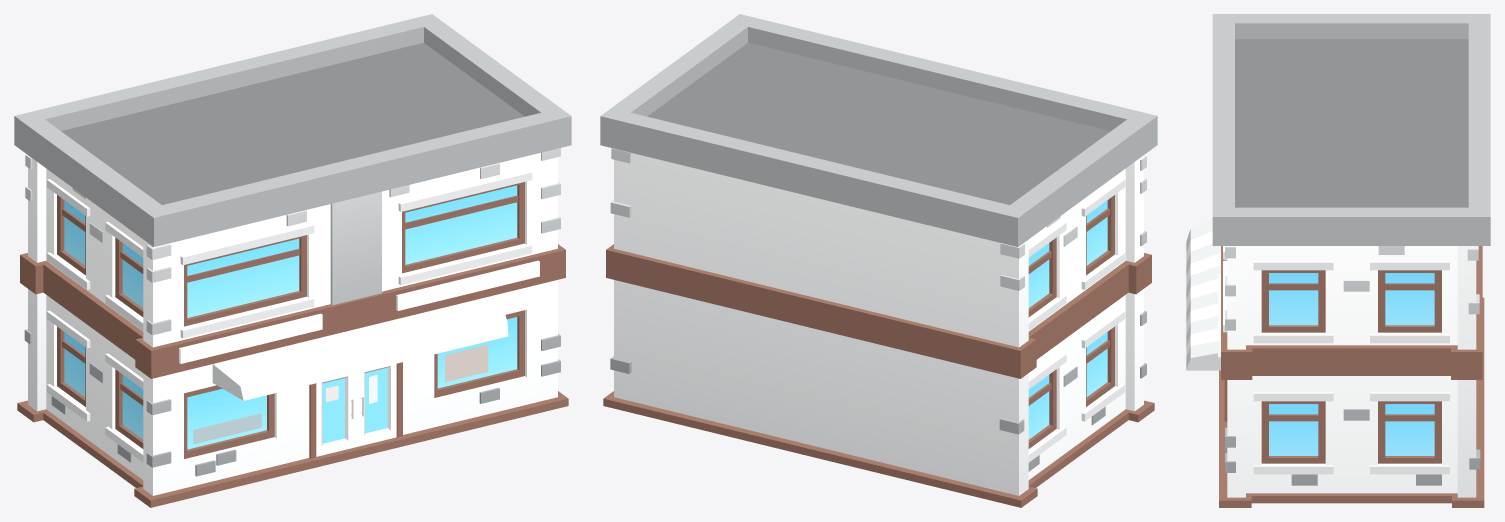
The model's file is Building_Living_29.glb.
3 views of the same model, side by side, from view 1: azimuth 30°, elevation 25°; view 2: azimuth 150°, elevation 25°; view 3: azimuth 270°, elevation 25° (orthographic).
Visible parts, largest first — view 1: Building_Living_29; view 2: Building_Living_29; view 3: Building_Living_29.
Part boxes in pixels (left/top/right/bottom): Building_Living_29: left=14, top=14, right=571, bottom=507; Building_Living_29: left=600, top=14, right=1157, bottom=507; Building_Living_29: left=1186, top=14, right=1490, bottom=507.
Bounding box in the file's own units: 11.86 × 7.92 × 7.52.
Materials: 1 (1 with a texture image).
